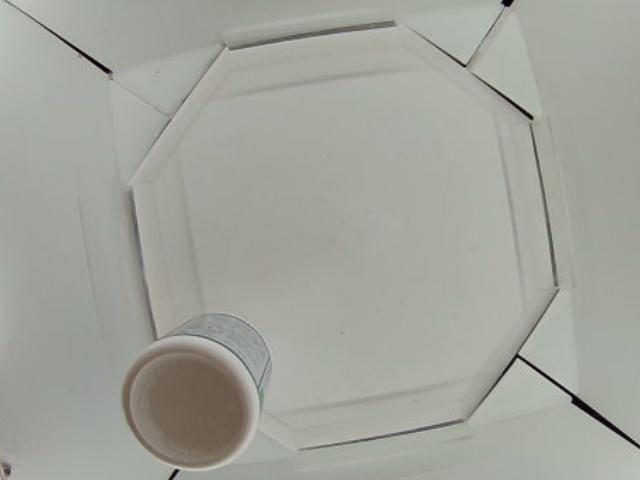Bottle: (123, 309, 273, 470)
